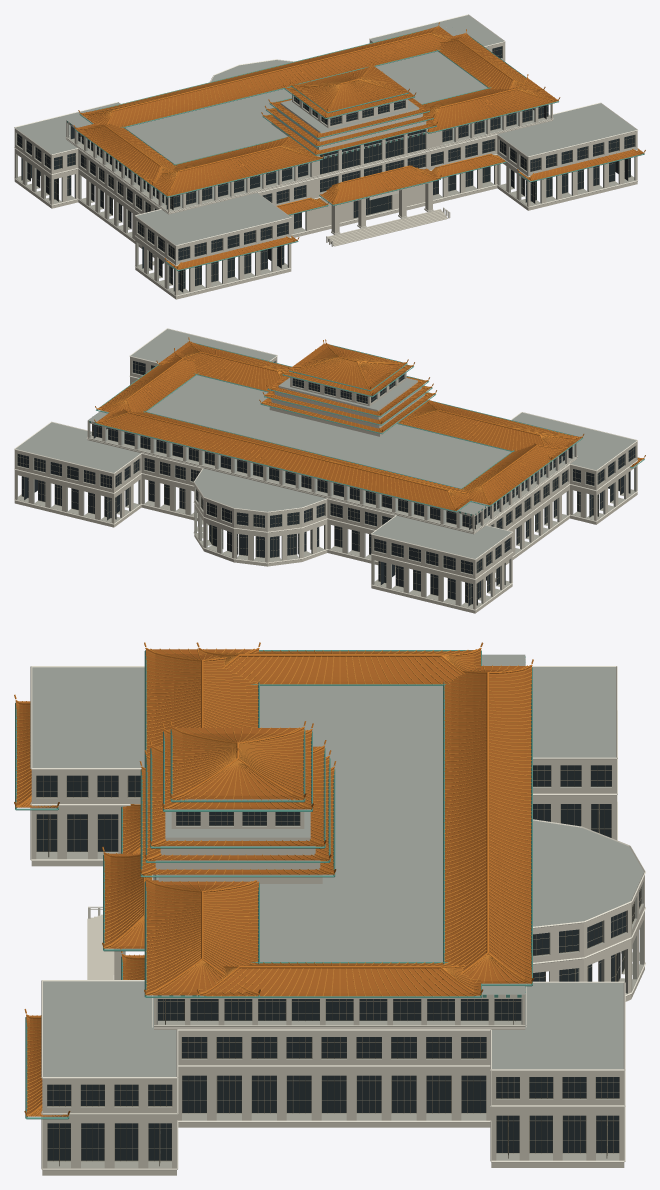
File: art-preview.glb
3 views of the same model, one above another, from view 1: azimuth 30°, elevation 25°; view 2: azimuth 150°, elevation 25°; view 3: azimuth 270°, elevation 25° (orthographic). The views are drawn at different scales.
Visible parts, largest first — view 1: art roof, art stone, art flatRoof, art glass, art tile, art reveal, art frame, art white, art frieze, art ridge; view 2: art flatRoof, art roof, art stone, art glass, art tile, art reveal, art frame, art white, art frieze, art ridge; view 3: art flatRoof, art roof, art stone, art glass, art tile, art frame, art white, art frieze, art reveal, art ridge.
Part boxes in pixels (x1,y1,x2,y2): art roof: (75,26,643,269); art stone: (14,40,637,299); art flatRoof: (15,15,636,245); art glass: (17,46,634,291); art tile: (76,26,642,269); art reveal: (15,46,635,294); art frame: (17,46,634,292); art white: (14,14,637,296); art frieze: (67,29,644,271); art ridge: (73,22,645,269); art flatRoof: (15,329,636,558); art roof: (96,341,641,510); art stone: (14,356,637,613); art glass: (17,361,634,605); art tile: (97,341,643,510); art reveal: (16,360,636,608); art frame: (17,361,635,606); art white: (14,328,637,610); art frieze: (89,343,644,515); art ridge: (94,337,645,510); art flatRoof: (32,654,643,1076); art roof: (16,649,531,1116); art stone: (31,759,644,1175); art glass: (36,765,641,1160); art tile: (15,648,532,1116); art frame: (36,765,641,1166); art white: (30,658,645,1170); art frieze: (15,650,532,1119); art reveal: (36,787,643,1168); art ridge: (14,642,533,1116).
Bounding box in the file's own units: 1.41 × 0.35 × 0.9051.
